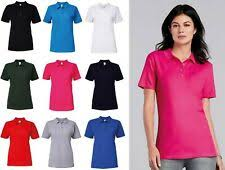S_polo shirt: (141, 46, 218, 159)
